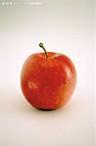apple: (23, 41, 77, 112)
